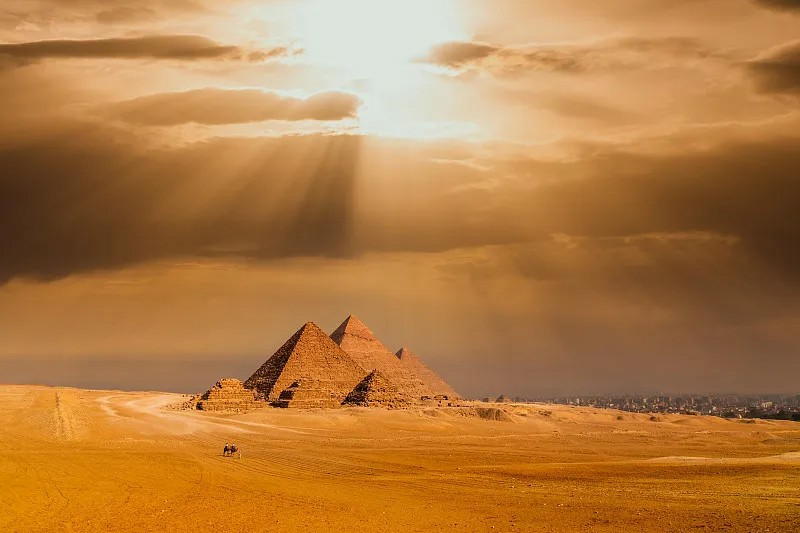Pyramid: (245, 321, 368, 403), (329, 314, 441, 403), (395, 348, 461, 401), (344, 370, 416, 407), (197, 377, 265, 413), (270, 376, 343, 405)
